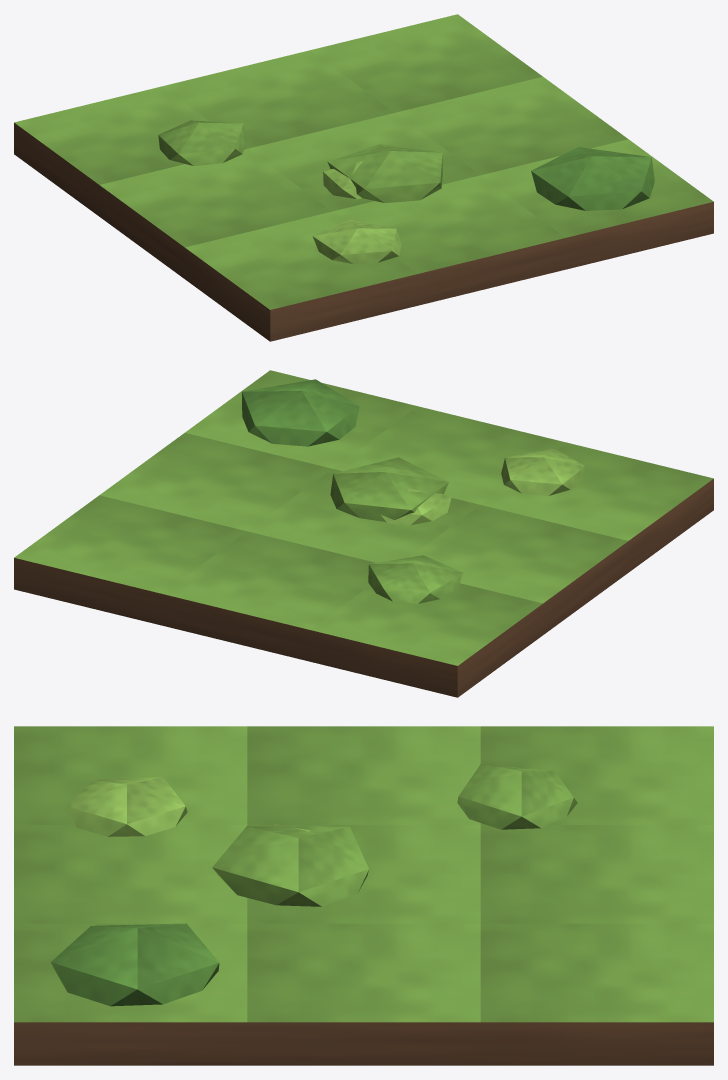
File: ground_grass_01.glb
3 views of the same model, one above another, from view 1: azimuth 30°, elevation 25°; view 2: azimuth 150°, elevation 25°; view 3: azimuth 270°, elevation 25° (orthographic). The views are drawn at different scales.
Visible parts, largest first — view 1: ground_grass_01; view 2: ground_grass_01; view 3: ground_grass_01.
Boxes of the visible parts, bbox=[...] form: ground_grass_01: bbox=[14, 14, 713, 341]; ground_grass_01: bbox=[14, 370, 713, 697]; ground_grass_01: bbox=[14, 726, 713, 1065].
Size of the model in its own units: 2.19 by 0.3102 by 2.19.
1 material, 1 textured.
